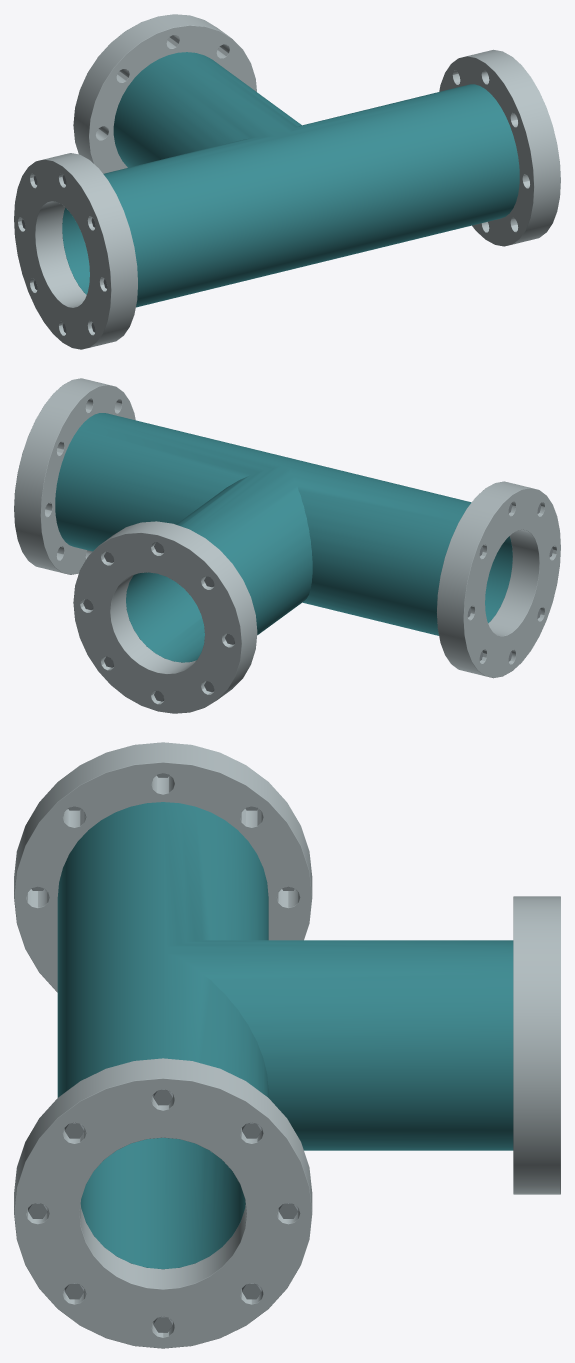
3 renders of one model, top to bottom at view 1: azimuth 30°, elevation 25°; view 2: azimuth 150°, elevation 25°; view 3: azimuth 270°, elevation 25°, orthographic. The views are drawn at different scales.
Parts seen in each view (by area): view 1: SM_NPP_Pipe_Tee_2m_A; view 2: SM_NPP_Pipe_Tee_2m_A; view 3: SM_NPP_Pipe_Tee_2m_A.
Part boxes in pixels (bbox=[...]): SM_NPP_Pipe_Tee_2m_A: bbox=[14, 14, 560, 349]; SM_NPP_Pipe_Tee_2m_A: bbox=[14, 378, 560, 713]; SM_NPP_Pipe_Tee_2m_A: bbox=[14, 742, 560, 1348].
Size of the model in its own units: 2 by 0.75 by 1.38.
